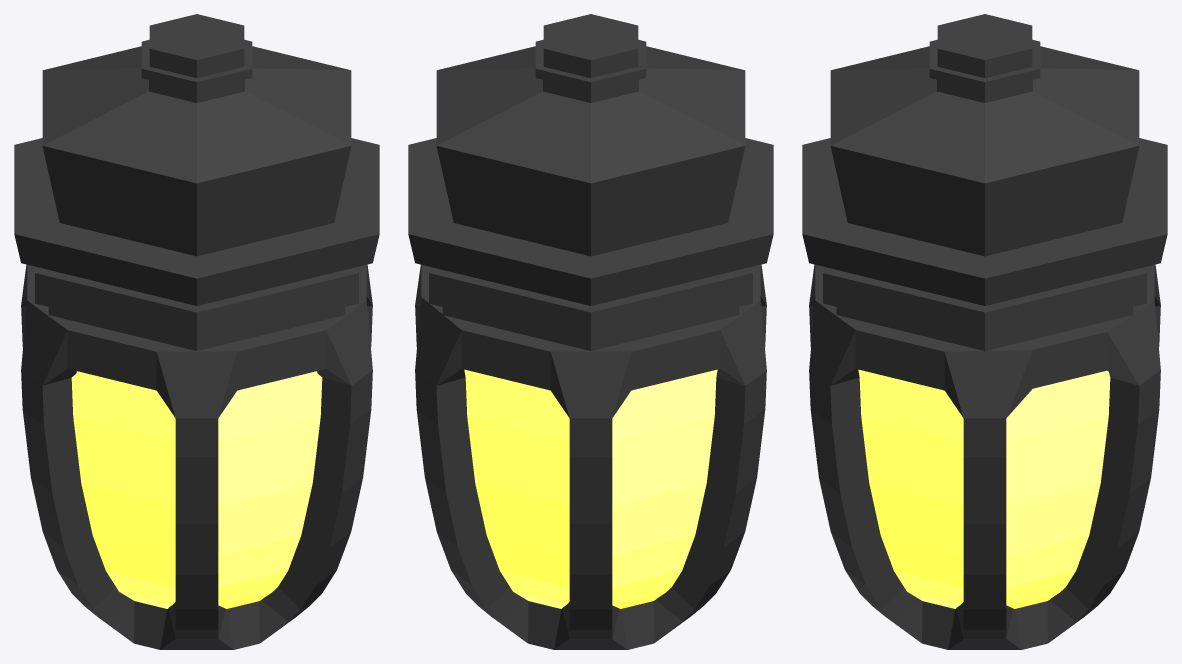
The model's file is Light01.fbx.
The picture shows the model from 3 angles, left to right: view 1: azimuth 30°, elevation 25°; view 2: azimuth 150°, elevation 25°; view 3: azimuth 270°, elevation 25°; orthographic projection.
Visible parts, largest first — view 1: Light01; view 2: Light01; view 3: Light01.
Boxes of the visible parts, x1,y1,x2,y2 form: Light01: (14, 14, 379, 649); Light01: (408, 14, 773, 649); Light01: (802, 14, 1167, 649).
Size of the model in its own units: 739 by 493 by 427.
